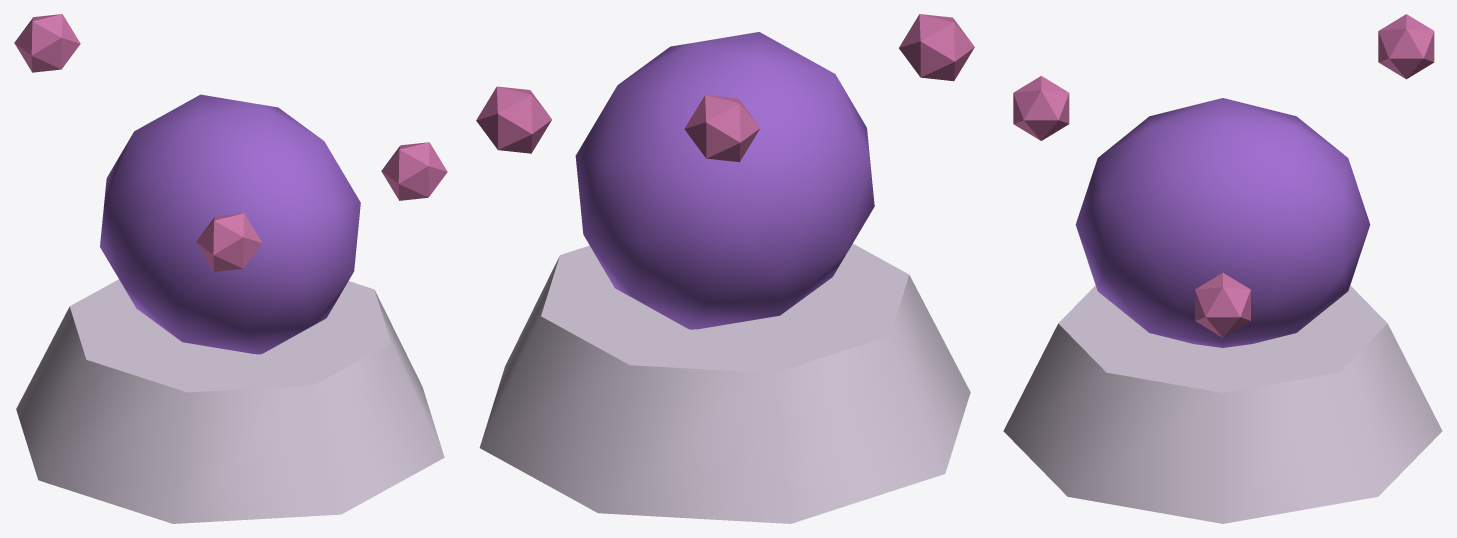
The model's file is traveler_01_memory.glb.
The picture shows the model from 3 angles, left to right: view 1: azimuth 30°, elevation 25°; view 2: azimuth 150°, elevation 25°; view 3: azimuth 270°, elevation 25°; orthographic projection. The views are drawn at different scales.
Visible parts, largest first — view 1: memory_pedestal, memory_symbol_traveler_01, memory_star_0, memory_star_1, memory_star_2; view 2: memory_pedestal, memory_symbol_traveler_01, memory_star_0, memory_star_1, memory_star_2; view 3: memory_pedestal, memory_symbol_traveler_01, memory_star_2, memory_star_1, memory_star_0.
Boxes of the visible parts, x1,y1,x2,y2 form: memory_pedestal: (16,279,444,523); memory_symbol_traveler_01: (100,94,360,354); memory_star_0: (381,142,447,200); memory_star_1: (196,213,261,271); memory_star_2: (14,14,80,72); memory_pedestal: (479,243,970,523); memory_symbol_traveler_01: (575,32,874,329); memory_star_0: (476,86,551,153); memory_star_1: (899,14,974,81); memory_star_2: (684,95,760,162); memory_pedestal: (1003,285,1442,523); memory_symbol_traveler_01: (1075,98,1370,347); memory_star_2: (1378,14,1434,79); memory_star_1: (1013,76,1069,140); memory_star_0: (1195,273,1250,337).
Size of what is drawn, in the model's own units: 2.5 by 2.21 by 2.4.
